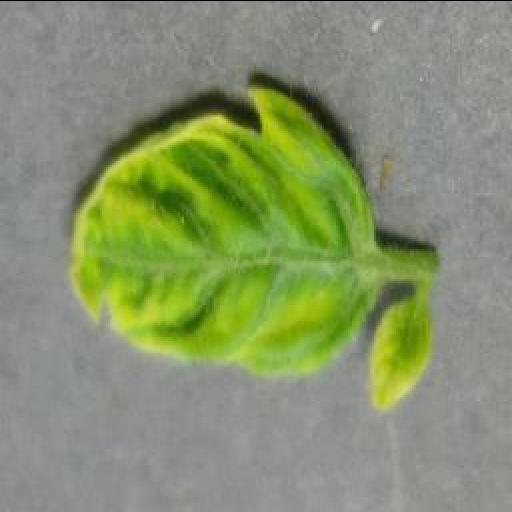disease_tomato: (68, 78, 380, 372), (365, 292, 443, 413)
